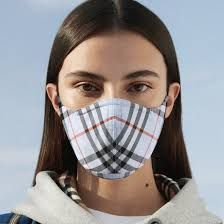with-mask: (44, 17, 183, 184)
